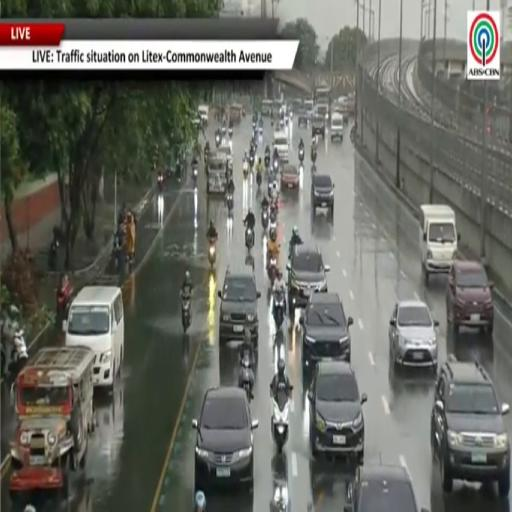bus: (314, 87, 330, 104)
car: (431, 355, 510, 498), (192, 387, 258, 490), (308, 361, 367, 463), (344, 464, 428, 511), (300, 293, 353, 366), (446, 260, 494, 333), (389, 300, 438, 369), (218, 265, 260, 345), (287, 242, 330, 316), (311, 173, 334, 217), (273, 130, 289, 162), (281, 164, 299, 191), (330, 111, 344, 141), (217, 143, 233, 169), (312, 116, 325, 138), (297, 108, 310, 127), (316, 103, 329, 121)
jeepney: (10, 346, 94, 503), (207, 153, 227, 195), (217, 143, 233, 170), (230, 104, 242, 124), (198, 105, 208, 126), (261, 100, 273, 116), (273, 100, 284, 113)
motorcycle: (2, 326, 28, 380), (271, 384, 290, 453), (270, 454, 290, 511), (238, 350, 254, 402), (56, 285, 72, 329), (109, 233, 124, 274), (48, 227, 61, 270), (273, 292, 284, 329), (48, 238, 59, 271), (182, 296, 191, 332), (289, 240, 302, 260), (268, 254, 276, 285), (208, 238, 216, 267), (245, 228, 254, 251), (261, 210, 268, 230), (227, 195, 233, 218), (269, 211, 276, 230), (192, 165, 198, 187), (243, 160, 249, 179), (350, 124, 356, 142), (264, 154, 270, 171), (158, 174, 163, 193), (204, 147, 209, 165), (311, 150, 317, 164), (249, 155, 254, 171), (256, 172, 261, 188), (216, 133, 221, 148), (273, 159, 278, 173), (299, 149, 304, 163), (222, 125, 226, 139), (228, 127, 233, 138), (299, 163, 303, 175), (280, 118, 284, 129), (312, 164, 316, 174), (253, 121, 256, 132)
